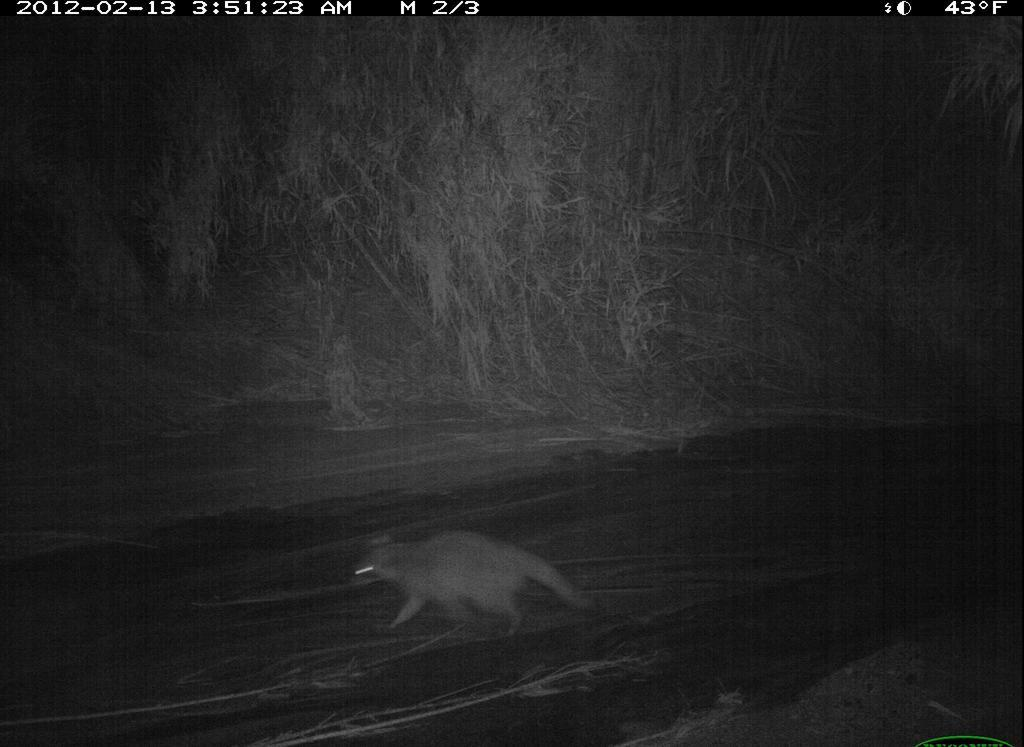raccoon: (347, 519, 598, 667)
